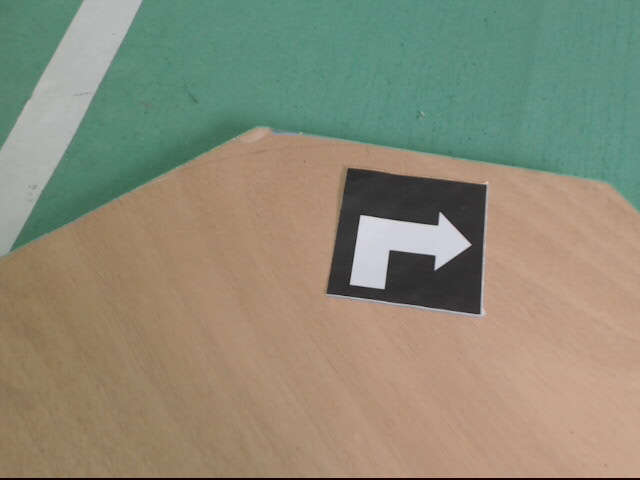right: (325, 167, 493, 317)
